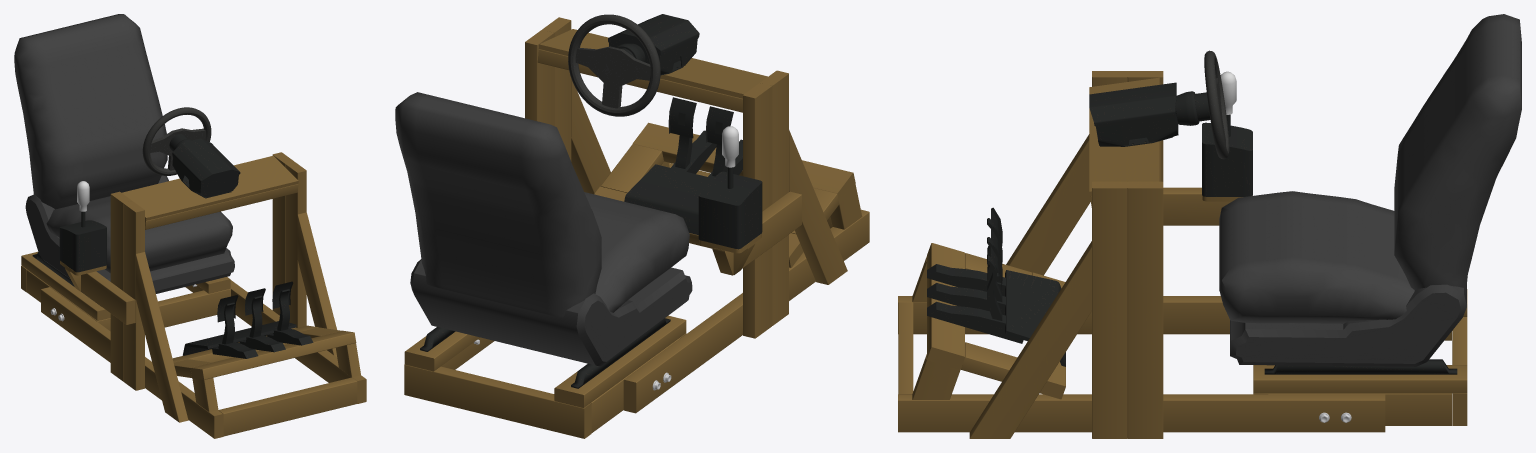
The model's file is sim-rig.glb.
3 views of the same model, side by side, from view 1: azimuth 30°, elevation 25°; view 2: azimuth 150°, elevation 25°; view 3: azimuth 270°, elevation 25° (orthographic). The views are drawn at different scales.
Visible parts, largest first — view 1: Object_4; view 2: Object_4; view 3: Object_4.
Boxes of the visible parts, left/top/right/bottom form: Object_4: left=14, top=14, right=366, bottom=438; Object_4: left=395, top=14, right=869, bottom=438; Object_4: left=898, top=14, right=1521, bottom=438.
Bounding box in the file's own units: 776 × 917 × 1560.
Materials: 1 (1 with a texture image).
